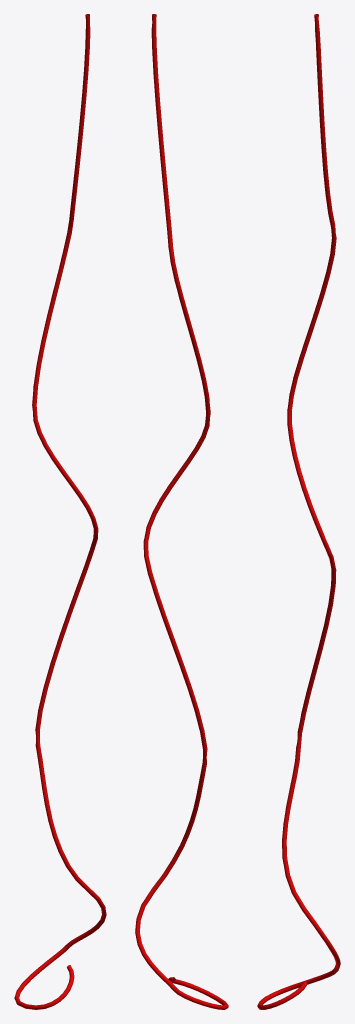
Rendered from Attic_Cable_01_LP_Splines_14.glb.
3 renders of one model, left to right at view 1: azimuth 30°, elevation 25°; view 2: azimuth 210°, elevation 25°; view 3: azimuth 330°, elevation 25°, orthographic. The views are drawn at different scales.
Parts seen in each view (by area): view 1: Attic_Cable_01_LP_Splines_14; view 2: Attic_Cable_01_LP_Splines_14; view 3: Attic_Cable_01_LP_Splines_14.
Part boxes in pixels (x1,y1,x2,y2): Attic_Cable_01_LP_Splines_14: (14,14,106,1009); Attic_Cable_01_LP_Splines_14: (135,14,228,1009); Attic_Cable_01_LP_Splines_14: (257,14,340,1009).
Size of the model in its own units: 0.1654 by 1.98 by 0.119.
